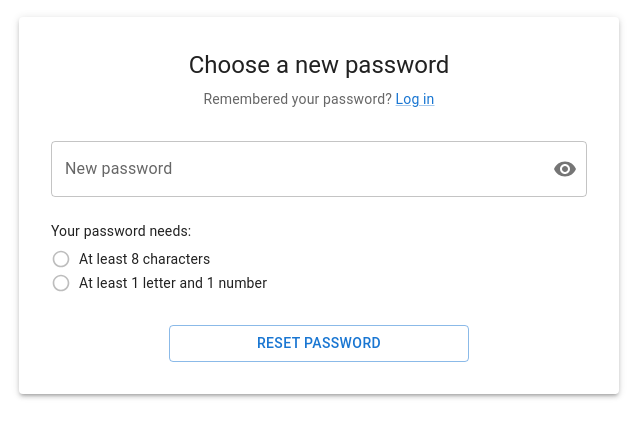
Test: ResetPasswordPage › falls back to the retry message and re-enables the form when the backend gives no reason
Type "newpass123" into the password field labelled "New password".
click(294, 169); type("newpass123")  # box [51,141,537,197]
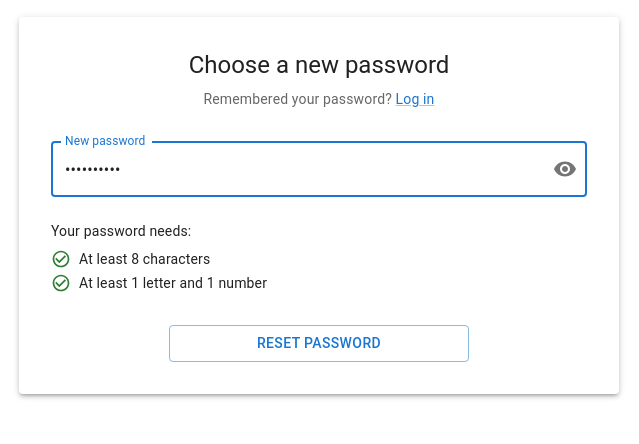
Click the button "Reset password".
click(319, 344)  # box [169,326,469,362]
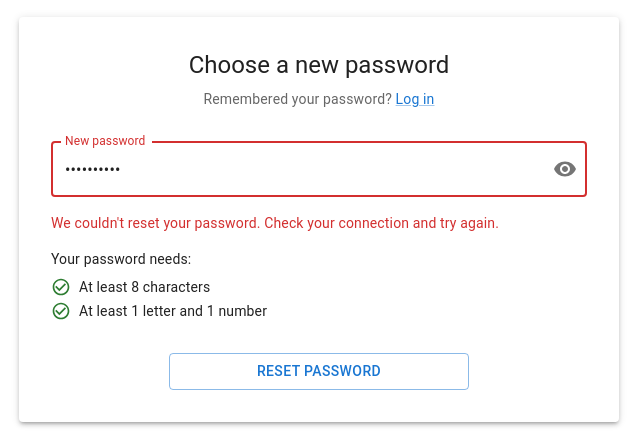
Check: the button "Reset password" is enabled, box [169,354,469,390]
Check: the message reads "We couldn't reset your password. Check your connection and try again.", box [51,215,499,231]
